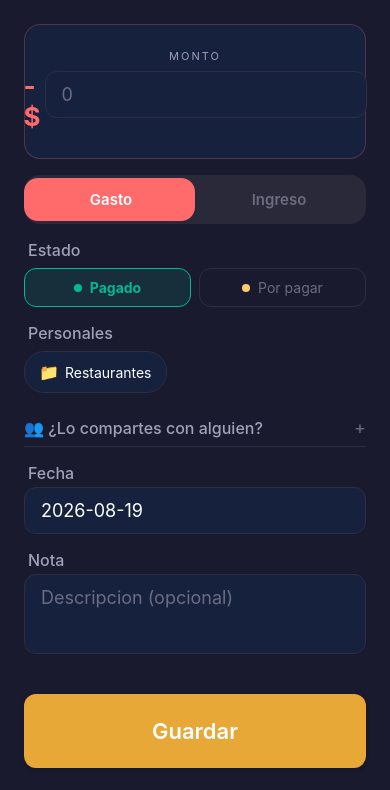
it: MovementFormScreen: el reparto › al encenderlo ofrece los cuatro modos y los companeros de hogar
What coordinates should you click on to do the following:
click the checkbox with test id "alternar-reparto"
I would click on:
 (195, 428)
Its box is [24,409,366,447].
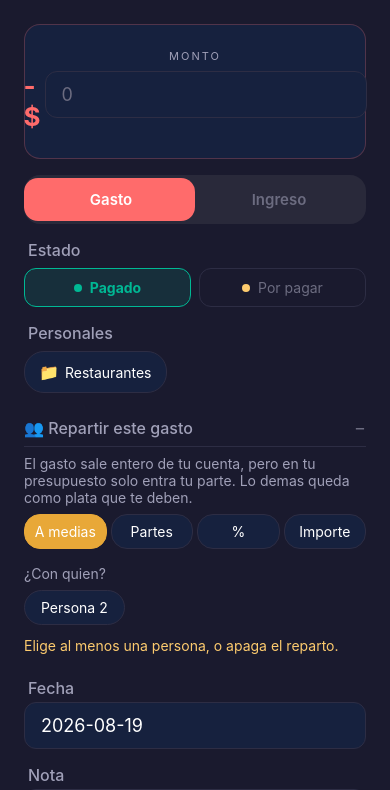
Now the radio button with test id "modo-EQUAL" is shown, box [24,514,106,549]
Now the radio button with test id "modo-PERCENT" is shown, box [197,514,280,549]
Now the radio button with test id "modo-AMOUNT" is shown, box [284,514,366,549]
